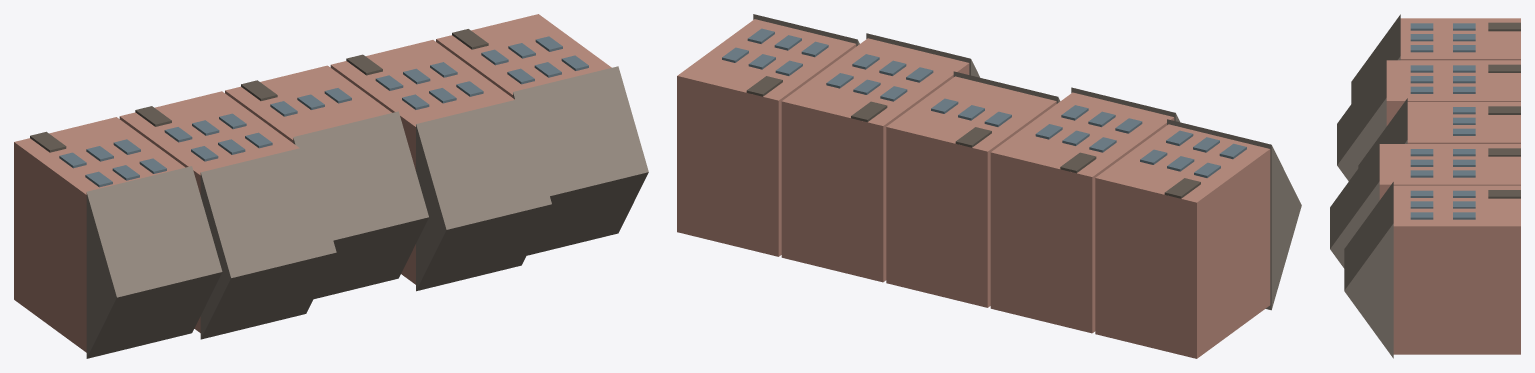
File: r-15-lambertville-riverfront-rowhouses.glb
The picture shows the model from 3 angles, left to right: view 1: azimuth 30°, elevation 25°; view 2: azimuth 150°, elevation 25°; view 3: azimuth 270°, elevation 25°; orthographic projection. The views are drawn at different scales.
Visible parts, largest first — view 1: roofs, walls, windows, doors; view 2: walls, windows, roofs, doors; view 3: walls, roofs, windows, doors.
Boxes of the visible parts, x1,y1,x2,y2 form: roofs: [86, 66, 648, 358]; walls: [14, 14, 611, 352]; windows: [59, 36, 588, 187]; doors: [30, 29, 488, 152]; walls: [677, 19, 1270, 358]; windows: [722, 28, 1246, 177]; roofs: [753, 14, 1301, 310]; doors: [746, 76, 1200, 198]; walls: [1379, 18, 1520, 354]; roofs: [1330, 14, 1407, 358]; windows: [1410, 23, 1475, 219]; doors: [1488, 22, 1520, 198].
Size of the model in its own units: 35000 by 10601 by 13500.
